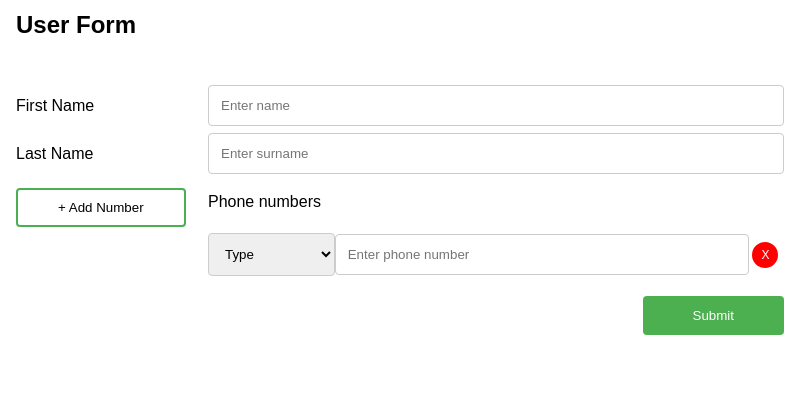
Scenario: with clicking the add number button › adds a new number and type field
Click the button "+ Add Number" at (101, 207), box [16,188,186,227]
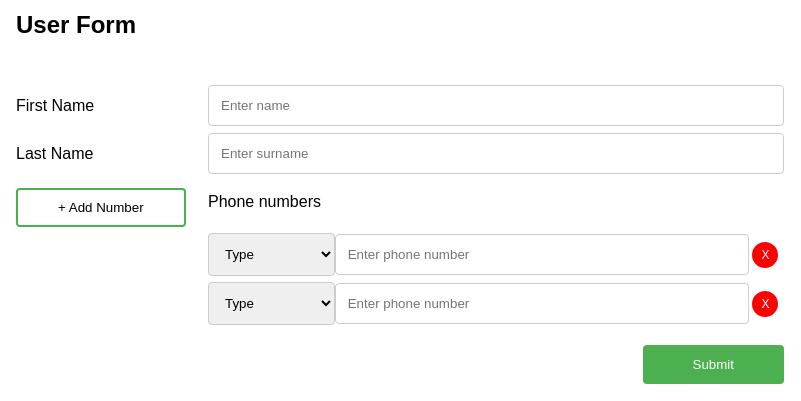
Check: the number of fields with placeholder "Enter phone number" is 2, box [335,234,749,275]; [335,283,749,324]
